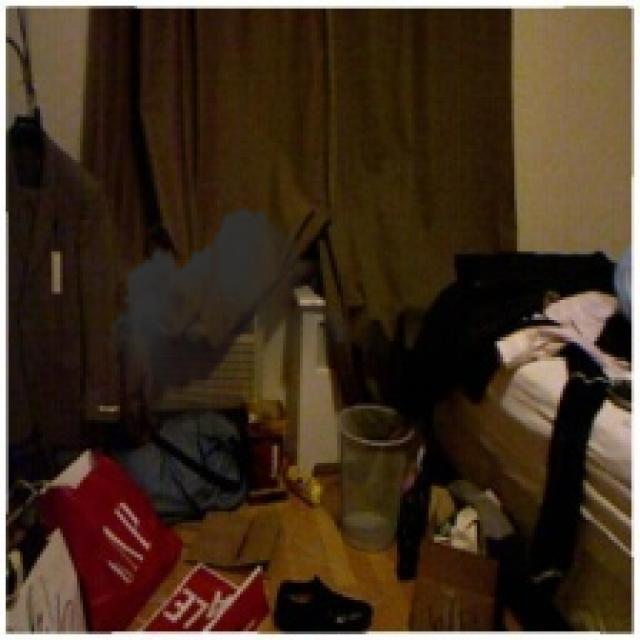Smoke: (103, 197, 354, 449)
